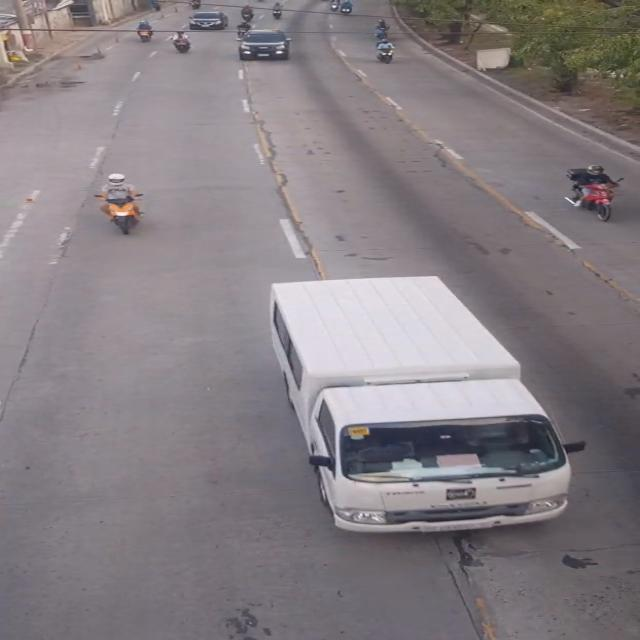motorbike: (564, 164, 623, 221), (93, 167, 144, 231)
truck: (270, 271, 574, 539)
